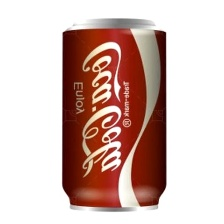can: (59, 17, 170, 215)
